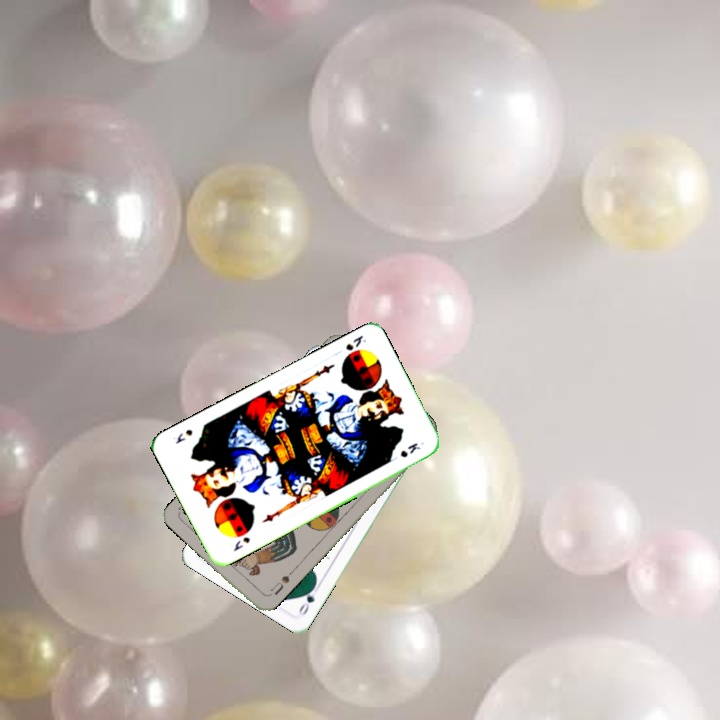GO: (295, 580, 322, 618)
SK: (341, 331, 368, 353), (229, 533, 253, 554)
SU: (263, 571, 292, 599)
